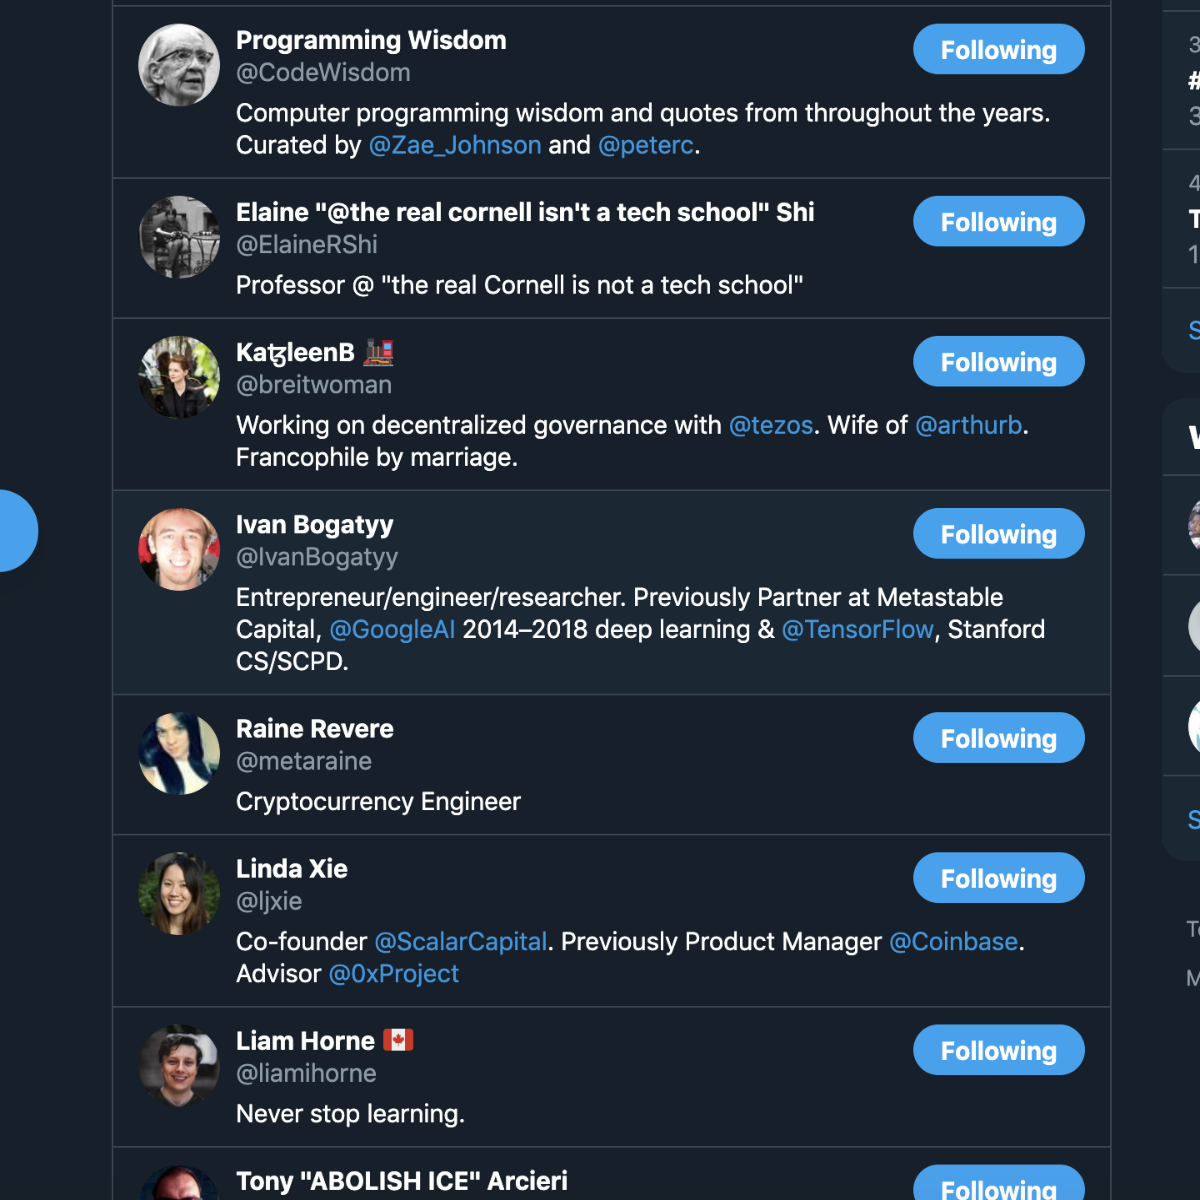button: (909, 20, 1089, 77), (908, 192, 1088, 249), (910, 332, 1090, 389), (910, 709, 1090, 766), (912, 848, 1091, 905), (910, 1018, 1089, 1075), (911, 505, 1090, 562), (910, 1163, 1086, 1200)
